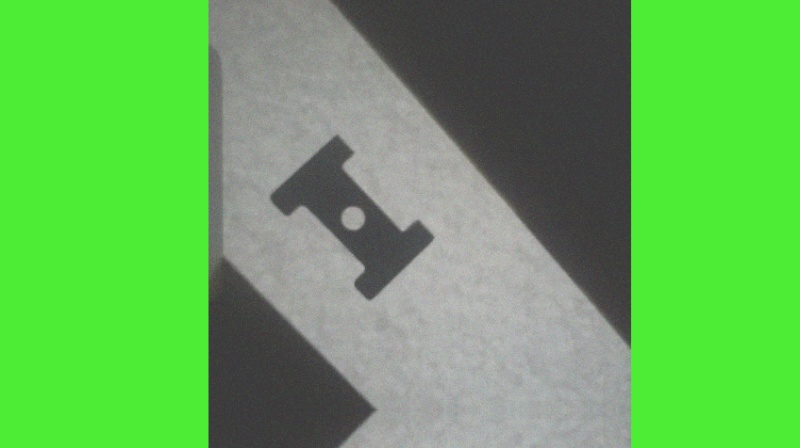O002: (266, 132, 435, 305)
